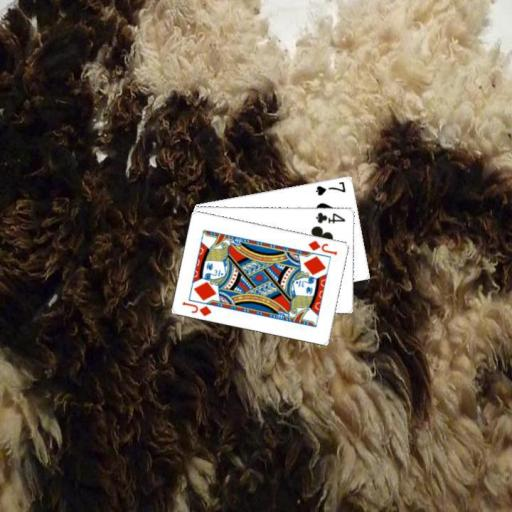4C: (313, 209, 347, 224)
7S: (313, 178, 347, 197)
JD: (305, 237, 339, 257), (180, 298, 213, 318)
